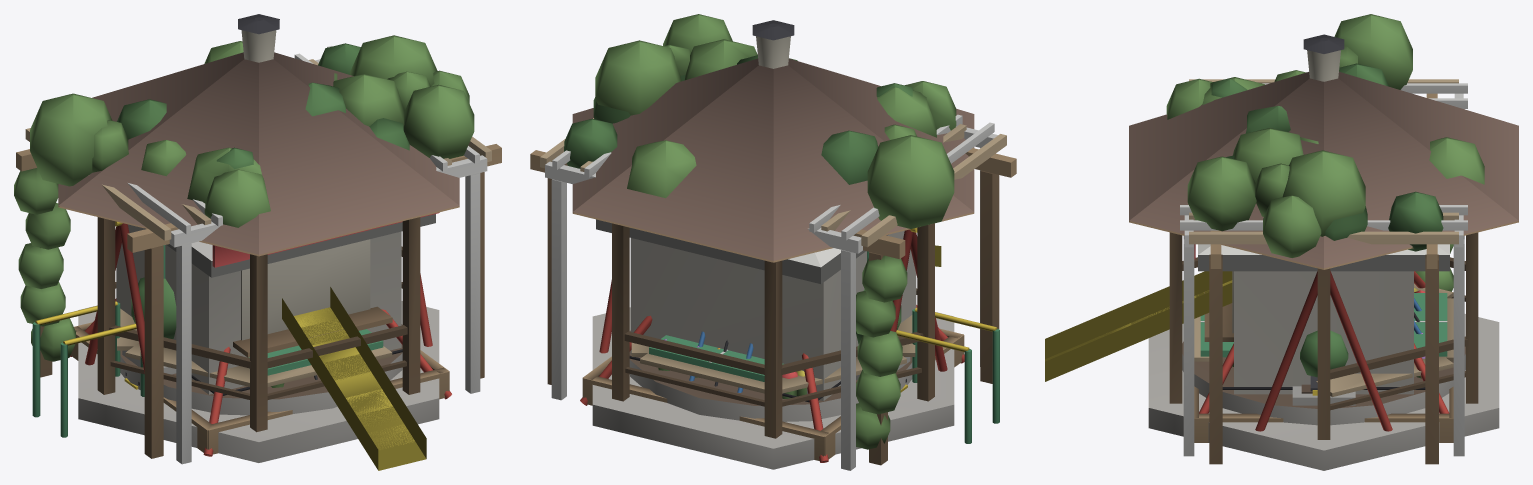
The model's file is kit_street.glb.
3 views of the same model, side by side, from view 1: azimuth 30°, elevation 25°; view 2: azimuth 150°, elevation 25°; view 3: azimuth 270°, elevation 25° (orthographic). The views are drawn at different scales.
Parts seen in each view (by area): view 1: gazebo, pergola, kiosk, slide, roofPergola, flowerBed, fitness, parasol, sandbox, swing, parkLamp, climber (+2 smaller); view 2: gazebo, pergola, kiosk, roofPergola, flowerBed, parasol, sandbox, fitness, parkLamp, pingpong, swing, climber; view 3: gazebo, pergola, kiosk, roofPergola, slide, flowerBed, parasol, swing, sandbox, roofPlanter, parkLamp, pingpong (+1 smaller).
Part boxes in pixels (x1,y1,x2,y2): gazebo: (58, 52, 459, 462); pergola: (14, 35, 501, 458); kiosk: (116, 212, 439, 394); slide: (282, 287, 426, 470); roofPergola: (128, 46, 487, 464); flowerBed: (120, 324, 402, 415); fitness: (32, 245, 165, 437); parasol: (144, 214, 435, 277); sandbox: (70, 322, 449, 455); swing: (85, 221, 432, 372); parkLamp: (238, 14, 279, 62); climber: (70, 298, 451, 456); gazebo: (572, 58, 974, 469); pergola: (530, 14, 1016, 465); kiosk: (630, 231, 916, 400); roofPergola: (545, 114, 997, 470); flowerBed: (629, 330, 912, 421); parasol: (596, 219, 888, 283); sandbox: (582, 328, 964, 461); fitness: (867, 251, 999, 443); parkLamp: (752, 20, 794, 68); pingpong: (649, 335, 783, 381); swing: (599, 228, 947, 371); climber: (580, 305, 964, 462); gazebo: (1129, 71, 1518, 470); pergola: (1166, 14, 1484, 464); kiosk: (1194, 244, 1413, 394); roofPergola: (1180, 83, 1467, 456); slide: (1045, 271, 1421, 381); flowerBed: (1182, 288, 1465, 425); parasol: (1198, 244, 1449, 271); swing: (1255, 271, 1392, 431); sandbox: (1194, 386, 1453, 442); roofPlanter: (1292, 330, 1355, 405); parkLamp: (1303, 34, 1344, 81); pingpong: (1200, 293, 1447, 357).
Bounding box in the file's own units: 5.13 × 4.6 × 5.27.
